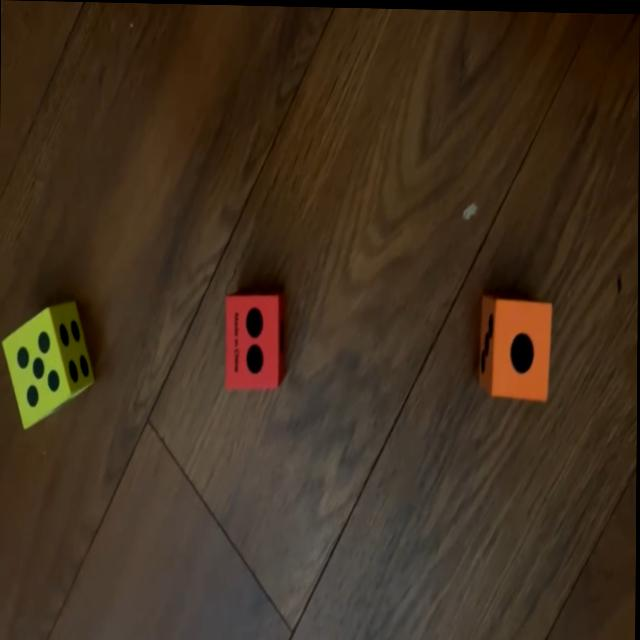red_block: (223, 286, 286, 391)
